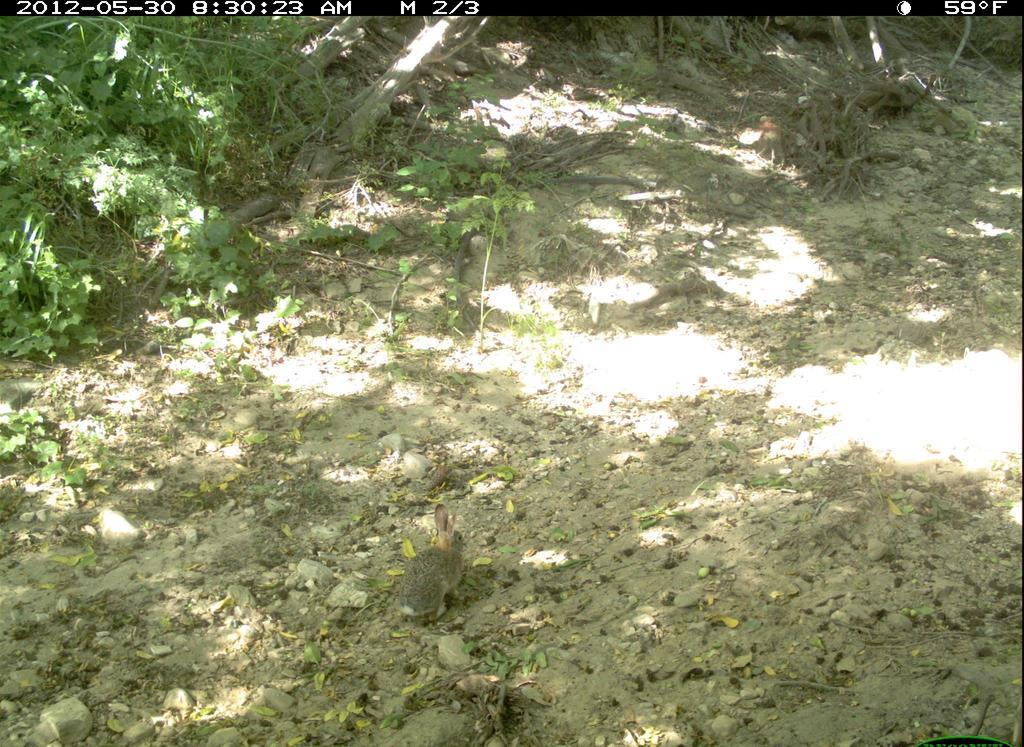rabbit: (391, 496, 484, 635)
